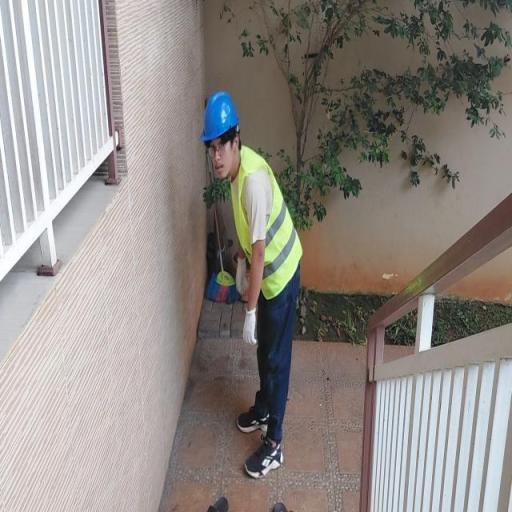Person: (162, 82, 336, 479)
boots: (234, 388, 277, 433), (242, 438, 289, 479)
gloves: (242, 310, 267, 344), (232, 256, 247, 294)
helmet: (196, 86, 245, 145)
vest: (220, 148, 302, 300)
